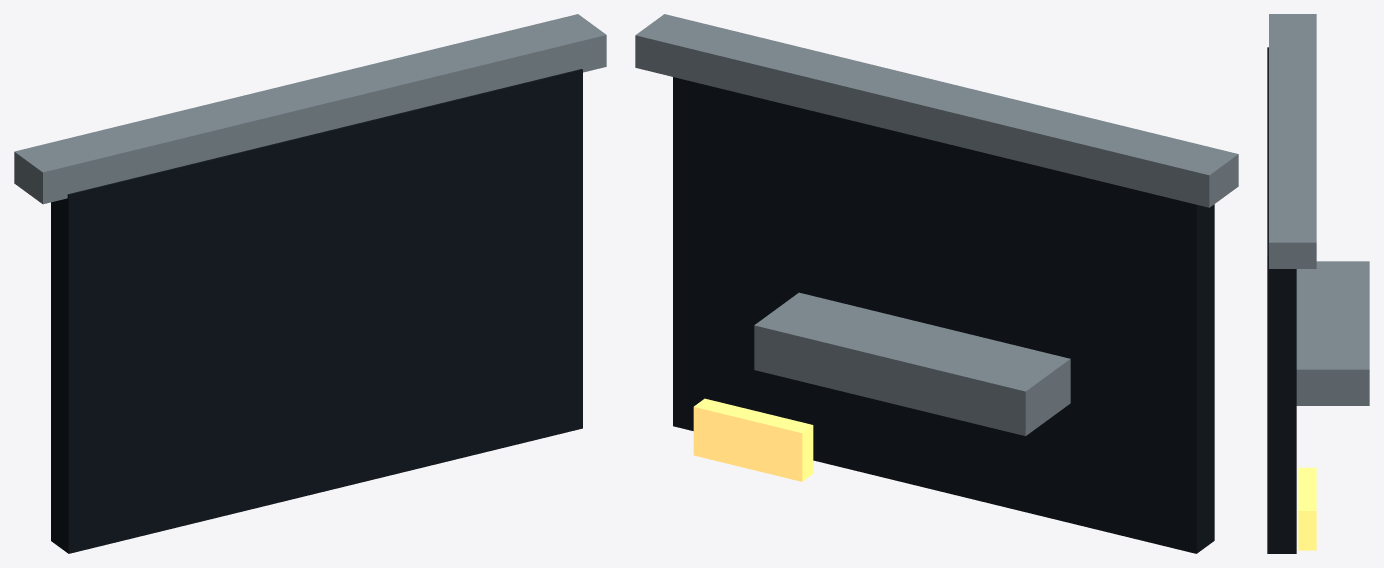
File: np_z06_support_arme.glb
3 views of the same model, side by side, from view 1: azimuth 30°, elevation 25°; view 2: azimuth 150°, elevation 25°; view 3: azimuth 270°, elevation 25° (orthographic). The views are drawn at different scales.
Parts seen in each view (by area): view 1: Panneau, Cadre; view 2: Panneau, Cadre, Berceau, MarquePrix; view 3: Cadre, Berceau, Panneau, MarquePrix.
Part boxes in pixels (box(x1,y1,x2,y2)): Panneau: box(51, 69, 582, 553); Cadre: box(14, 14, 606, 204); Panneau: box(673, 77, 1214, 553); Cadre: box(635, 14, 1238, 207); Berceau: box(754, 292, 1070, 436); MarquePrix: box(693, 398, 813, 481); Cadre: box(1269, 14, 1316, 268); Berceau: box(1296, 261, 1369, 405); Panneau: box(1267, 47, 1296, 553); MarquePrix: box(1298, 467, 1316, 550).
Bounding box in the file's own units: 1.48 × 1 × 0.28.
